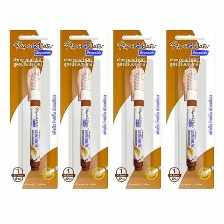correction_fluid: (178, 61, 201, 174), (127, 62, 148, 173), (23, 62, 44, 173), (74, 63, 93, 173)
